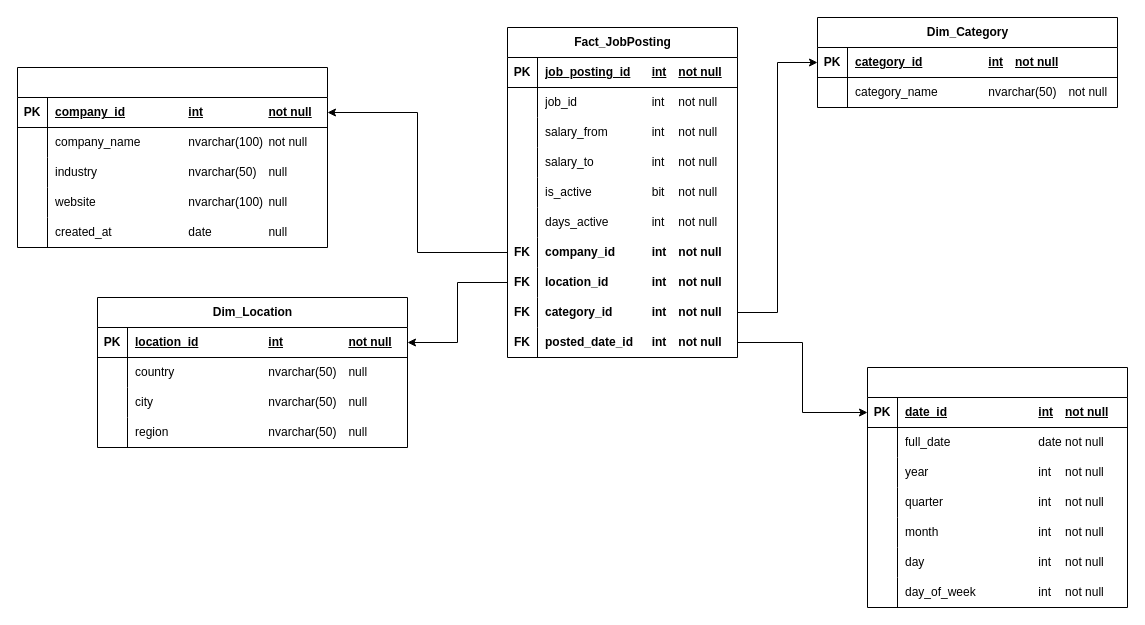
This 1145x625 diagram has some shape labels left out. The shapes that lost their labels are listed below. From the top down, each one's box as (x1, y1, x2, y2) in pixels, then its label:
(16, 66, 328, 248): Dim_Company
(866, 366, 1128, 608): Dim_Date
